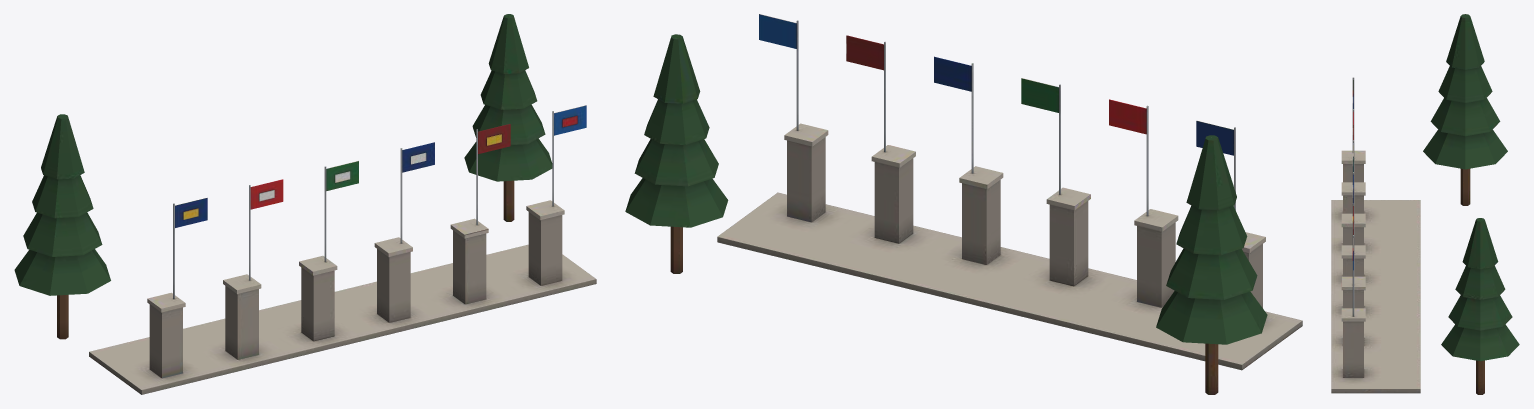
The model's file is avenida_banderas.glb.
3 views of the same model, side by side, from view 1: azimuth 30°, elevation 25°; view 2: azimuth 150°, elevation 25°; view 3: azimuth 270°, elevation 25° (orthographic). The views are drawn at different scales.
Visible parts, largest first — view 1: avenida_banderas; view 2: avenida_banderas; view 3: avenida_banderas.
Part boxes in pixels (box(x1,y1,x2,y2)): avenida_banderas: box(14, 14, 596, 394); avenida_banderas: box(625, 14, 1302, 394); avenida_banderas: box(1331, 14, 1519, 394).
Size of the model in its own units: 35.5 by 13.91 by 12.64.
Materials: 1 (1 with a texture image).
